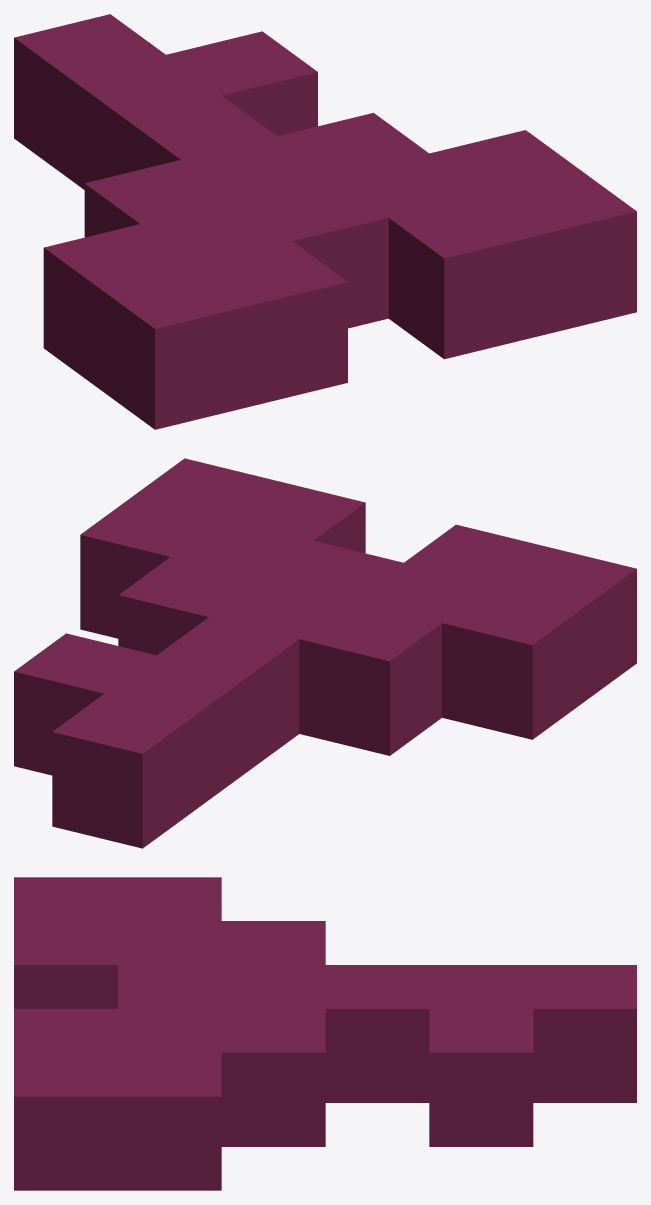
The model's file is treasure_chest_f_key.obj.
The picture shows the model from 3 angles, top to bottom: view 1: azimuth 30°, elevation 25°; view 2: azimuth 150°, elevation 25°; view 3: azimuth 270°, elevation 25°; orthographic projection. The views are drawn at different scales.
Size of the model in its own units: 0.5 by 0.1 by 0.6.
Materials: 1 (1 with a texture image).
